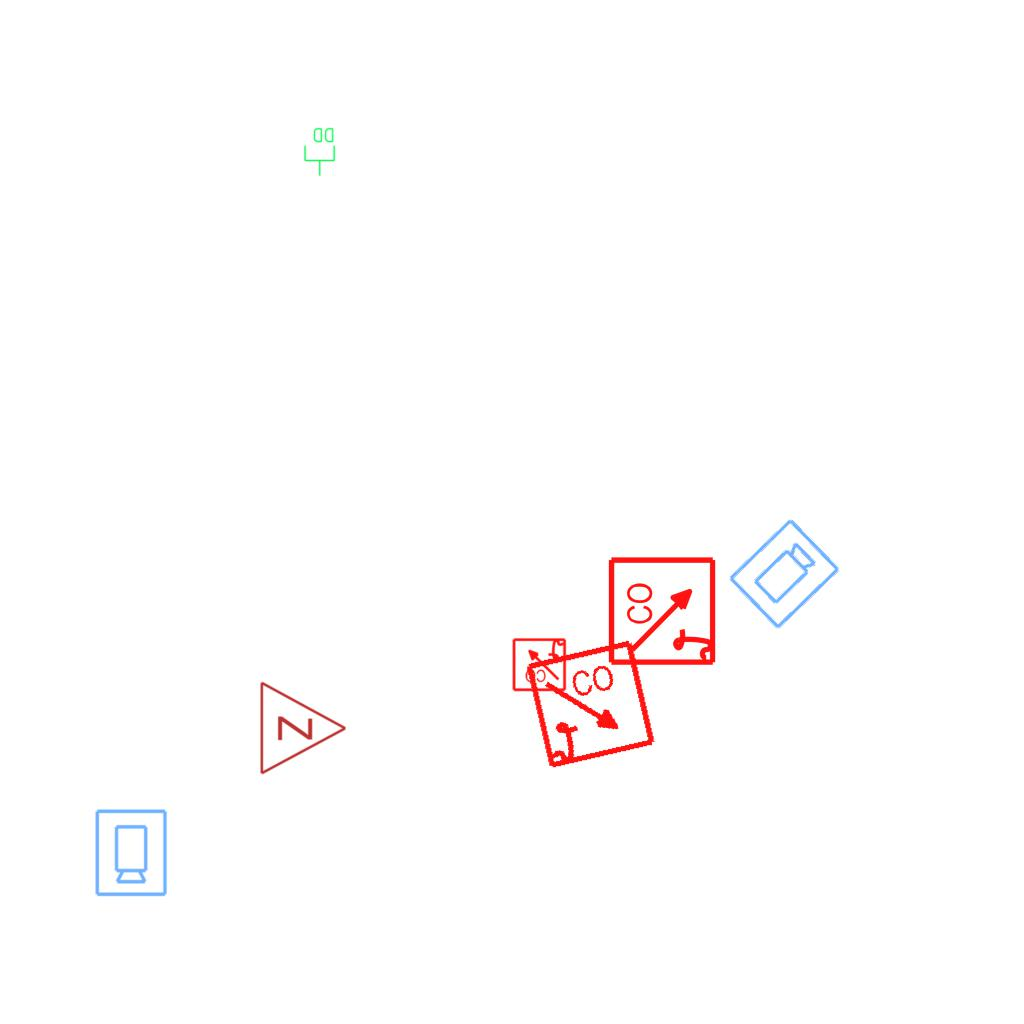Datenanschluss_zweifach: (303, 126, 337, 177)
KFO_Kamera_mit_Festobjektiv: (725, 515, 844, 634), (92, 807, 169, 898)
ROA_Rauchmelder_optisch_mit_Signalgeber_(Sockelsirene): (523, 637, 660, 774), (607, 554, 720, 667), (511, 636, 567, 692)
Zimmersignalleuchte: (253, 678, 353, 776)
